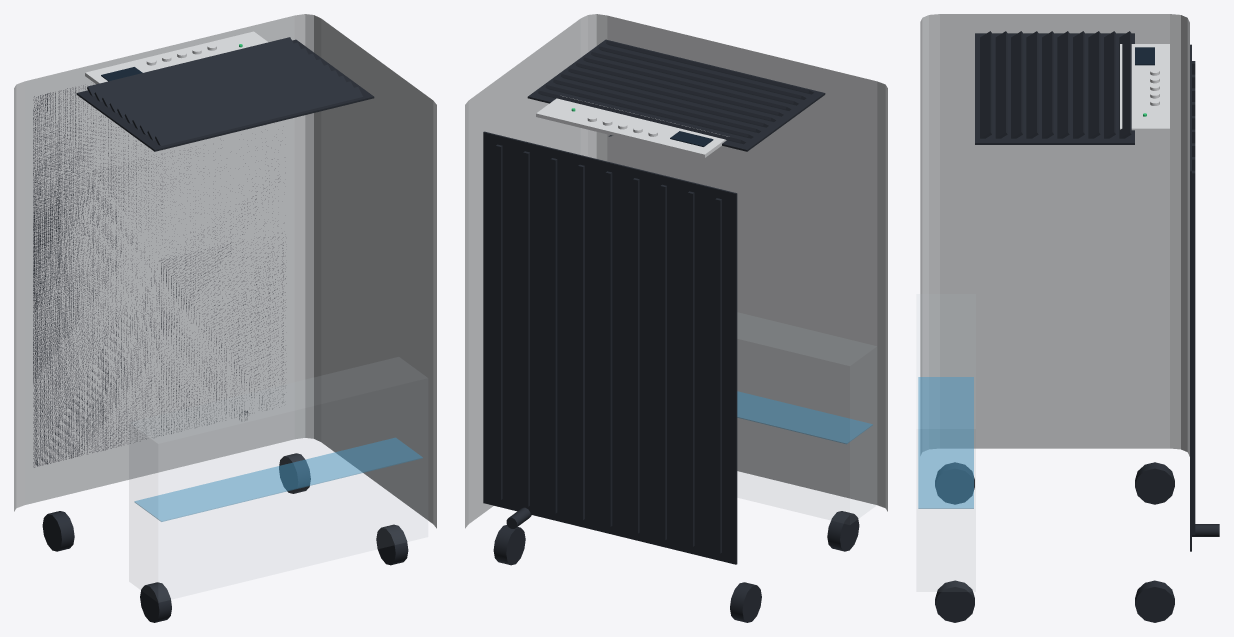
Rendered from dehumidifier-30l.glb.
3 renders of one model, left to right at view 1: azimuth 30°, elevation 25°; view 2: azimuth 150°, elevation 25°; view 3: azimuth 270°, elevation 25°, orthographic. The views are drawn at different scales.
Visible parts, largest first — view 1: dehum_body, dehum_rear_grille, dehum_vanes, dehum_tank_water, dehum_panel, dehum_outlet_recess, dehum_castor_3, dehum_castor_1, dehum_castor_4, dehum_castor_2; view 2: dehum_rear_grille, dehum_body, dehum_outlet_recess, dehum_vanes, dehum_panel, dehum_tank_water, dehum_castor_4, dehum_castor_1, dehum_castor_2; view 3: dehum_body, dehum_vanes, dehum_tank_water, dehum_outlet_recess, dehum_panel, dehum_rear_grille, dehum_castor_2, dehum_castor_1, dehum_castor_3, dehum_castor_4.
Part boxes in pixels (x1,y1,x2,y2): dehum_body: (14,14,436,528); dehum_rear_grille: (33,85,286,467); dehum_vanes: (87,37,362,145); dehum_tank_water: (134,438,422,521); dehum_panel: (85,31,267,84); dehum_outlet_recess: (76,39,374,151); dehum_castor_3: (376,524,408,565); dehum_castor_1: (42,511,74,551); dehum_castor_4: (140,582,171,622); dehum_castor_2: (279,453,310,493); dehum_rear_grille: (483,131,737,564); dehum_body: (465,14,887,528); dehum_outlet_recess: (527,39,825,151); dehum_vanes: (538,41,813,144); dehum_panel: (536,96,727,157); dehum_tank_water: (737,391,872,443); dehum_castor_4: (827,511,859,551); dehum_castor_1: (730,582,761,622); dehum_castor_2: (493,525,525,565); dehum_body: (920,14,1189,456); dehum_vanes: (980,31,1131,138); dehum_tank_water: (918,377,973,508); dehum_outlet_recess: (975,33,1134,144); dehum_panel: (1120,44,1169,132); dehum_rear_grille: (1190,44,1195,551); dehum_castor_2: (1135,580,1174,622); dehum_castor_1: (1135,462,1174,504); dehum_castor_3: (935,580,974,622); dehum_castor_4: (935,462,974,504).
Size of the model in its own units: 0.36 by 0.5292 by 0.304.
